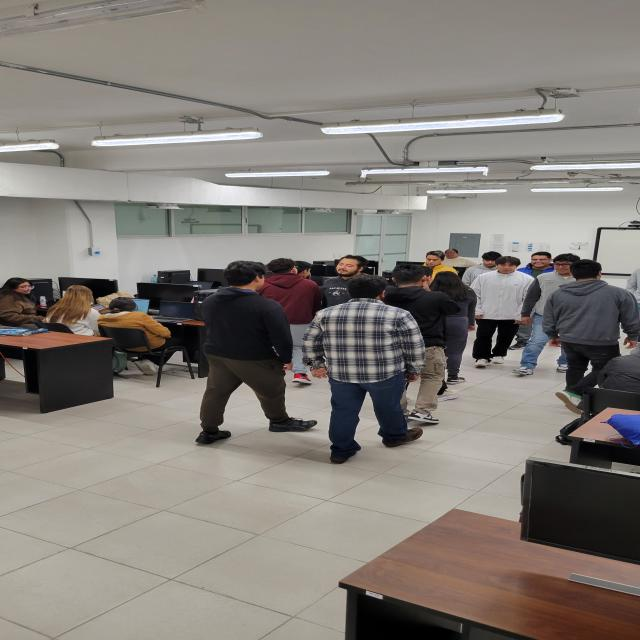Persona: (177, 258, 320, 451), (299, 271, 431, 466), (548, 256, 626, 367), (478, 255, 536, 381)
